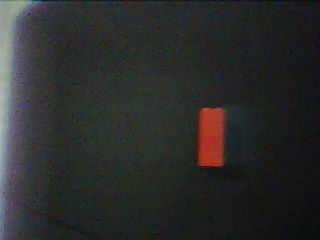lego: (195, 106, 226, 167)
